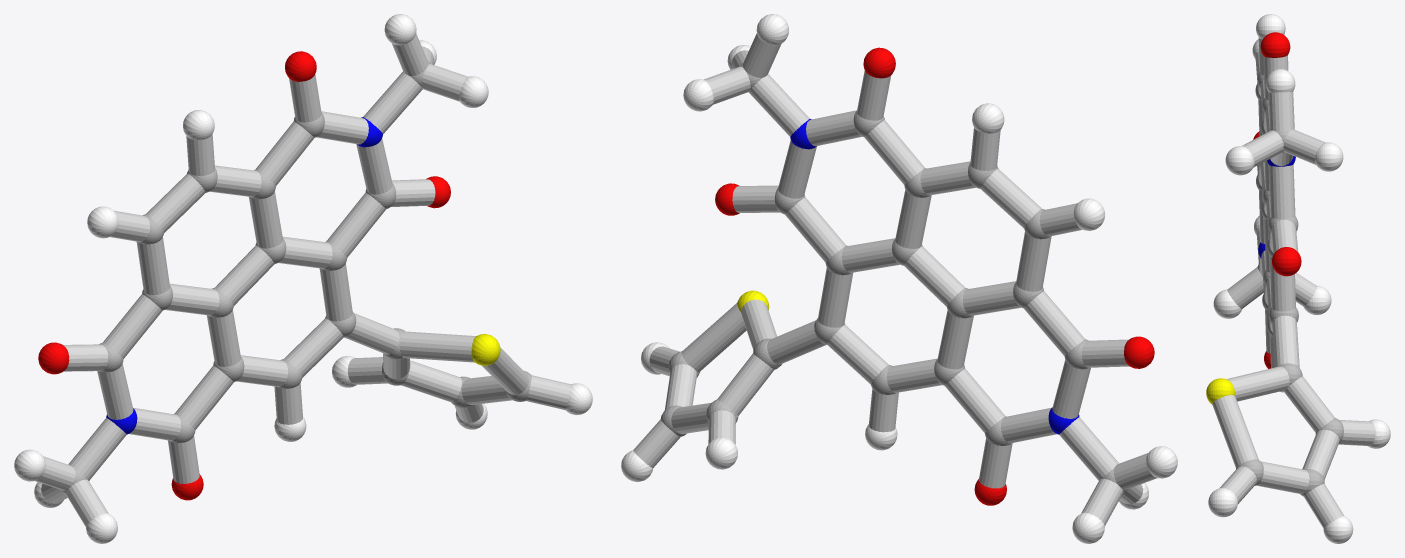
Rendered from Dimethyl_Naphthalene_Dicarboximide_Phi_5_Theta_240_Thiophene.glb.
3 views of the same model, side by side, from view 1: azimuth 30°, elevation 25°; view 2: azimuth 150°, elevation 25°; view 3: azimuth 270°, elevation 25° (orthographic). The views are drawn at different scales.
Parts seen in each view (by area): view 1: grp14119, grp7241, grp1, grp12309, grp13757, grp11585; view 2: grp14119, grp7241, grp1, grp12309, grp11585; view 3: grp14119, grp7241, grp1, grp12309, grp13757.
Part boxes in pixels (x1,y1,x2,y2): grp14119: [35, 33, 571, 526]; grp7241: [14, 14, 592, 543]; grp1: [60, 61, 531, 494]; grp12309: [38, 51, 450, 500]; grp13757: [471, 334, 500, 365]; grp11585: [106, 117, 382, 434]; grp14119: [633, 33, 1157, 525]; grp7241: [621, 14, 1177, 543]; grp1: [660, 63, 1127, 493]; grp12309: [715, 47, 1154, 505]; grp11585: [790, 119, 1079, 434]; grp14119: [1212, 37, 1375, 528]; grp7241: [1208, 14, 1390, 543]; grp1: [1236, 72, 1343, 496]; grp12309: [1253, 32, 1301, 368]; grp13757: [1206, 378, 1235, 404].
Size of the model in its own units: 11.88 by 9.51 by 3.73.
